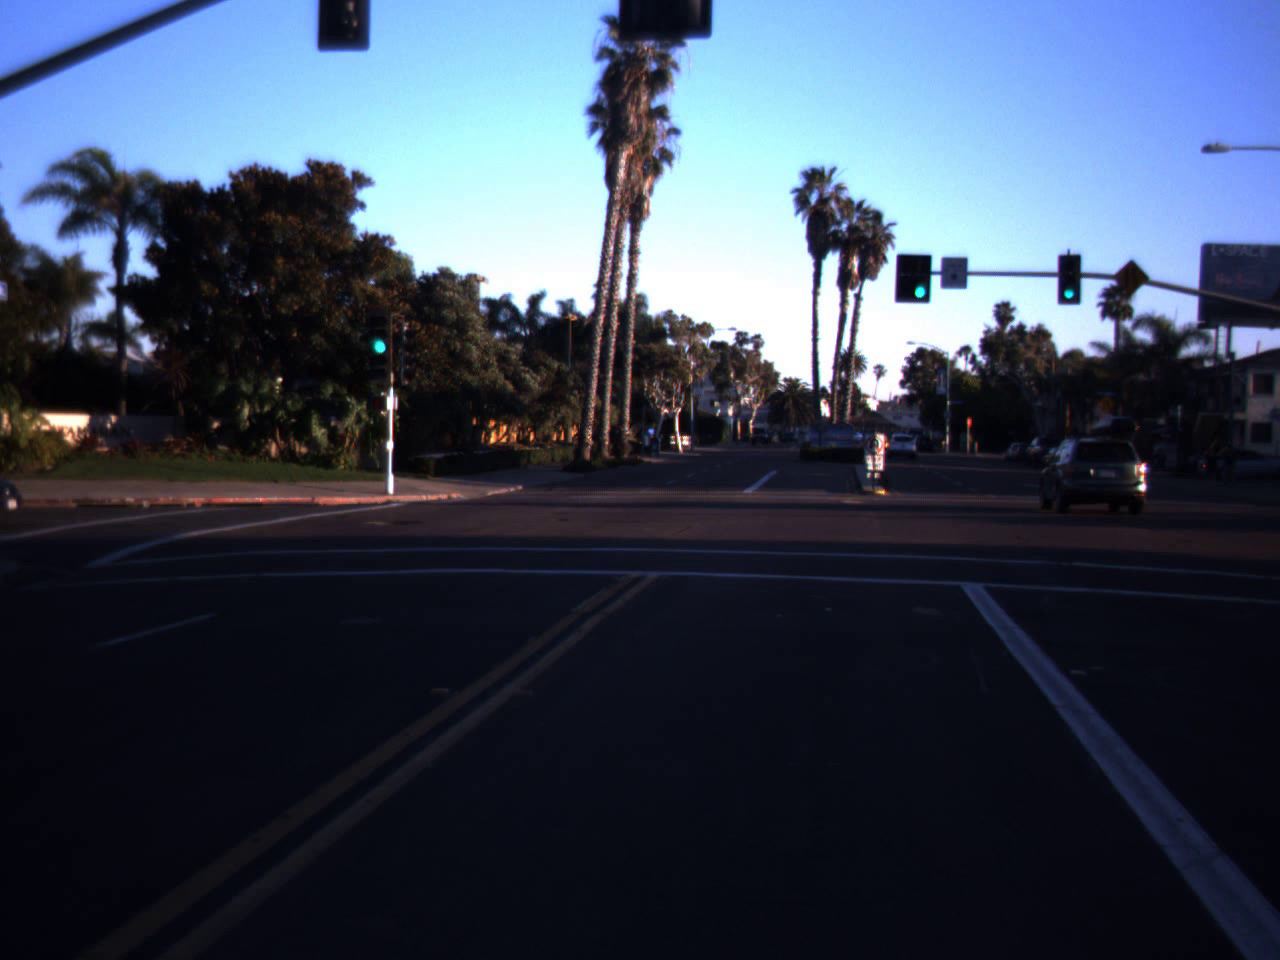go: (365, 302, 395, 357), (908, 252, 932, 302), (1057, 266, 1081, 301)
